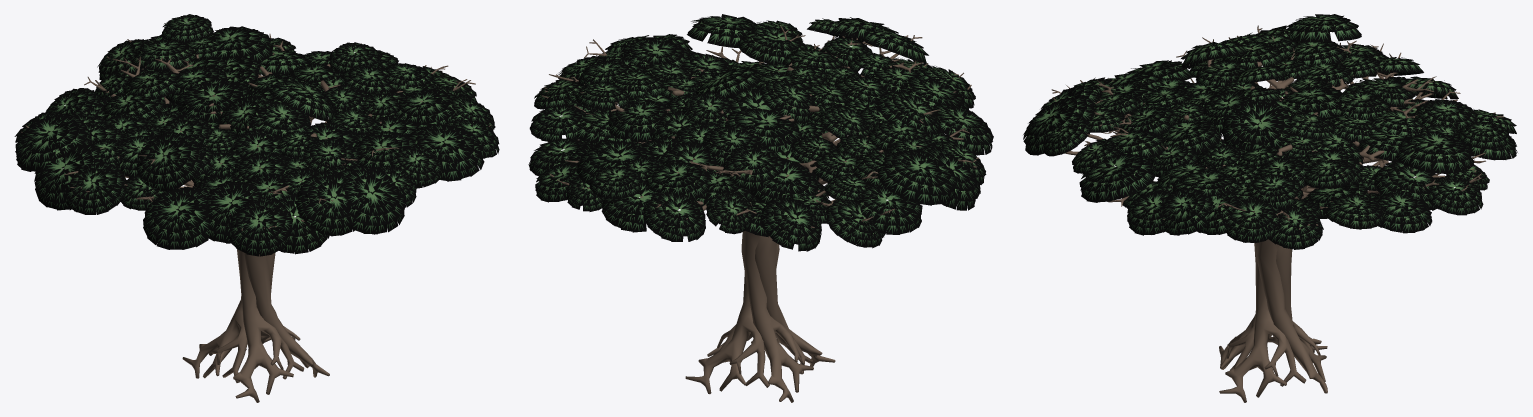
Rendered from OuterWildsTree.fbx.
3 renders of one model, left to right at view 1: azimuth 30°, elevation 25°; view 2: azimuth 150°, elevation 25°; view 3: azimuth 270°, elevation 25°, orthographic.
Parts seen in each view (by area): view 1: Leaves.002, Tree LP; view 2: Leaves.002, Tree LP; view 3: Leaves.002, Tree LP.
Part boxes in pixels (x1,y1,x2,y2): Leaves.002: (14,14,499,256); Tree LP: (21,34,491,402); Leaves.002: (528,14,993,251); Tree LP: (542,25,978,402); Leaves.002: (1023,14,1517,249); Tree LP: (1051,25,1504,402).
Bounding box in the file's own units: 7535 × 4982 × 7673.
